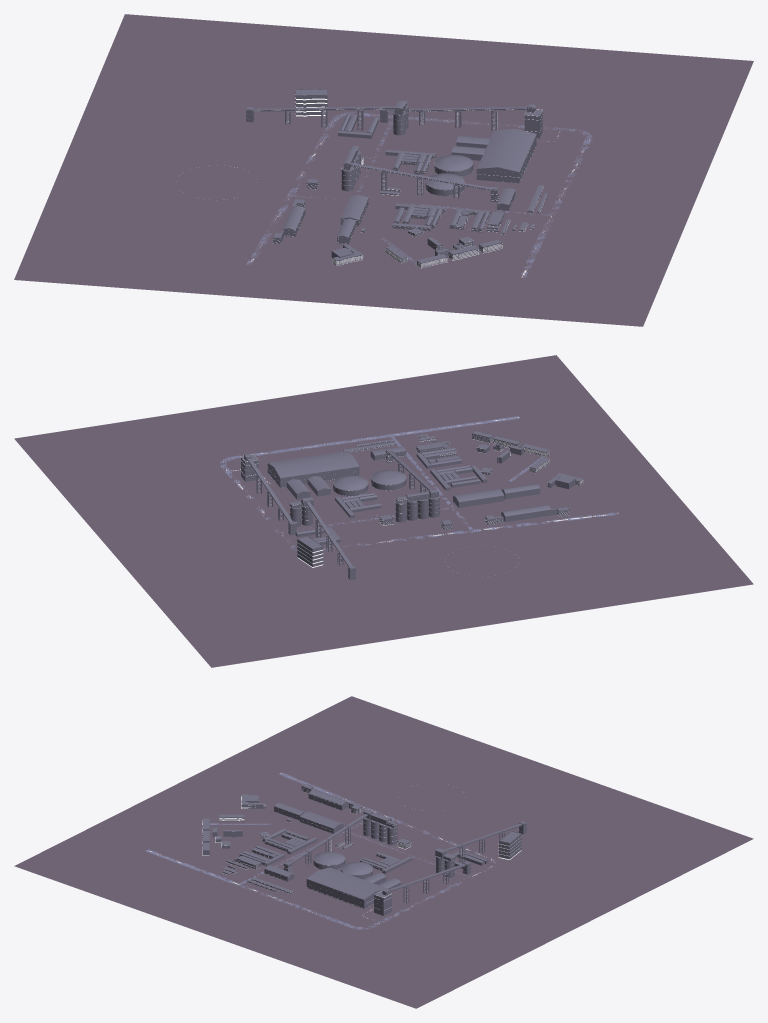
The model's file is 1-processed.glb.
The picture shows the model from 3 angles, top to bottom: view 1: azimuth 30°, elevation 25°; view 2: azimuth 150°, elevation 25°; view 3: azimuth 270°, elevation 25°; orthographic projection. The views are drawn at different scales.
Visible parts, largest first — view 1: 地面, 上部-材质 (×2), 下部-材质, 道路, 下部-材质.1; view 2: 地面, 上部-材质 (×2), 下部-材质, 道路; view 3: 地面, 上部-材质 (×2), 下部-材质, 道路.
Boxes of the visible parts, x1,y1,x2,y2 form: 地面: (14,14,753,326); 上部-材质 (×2): (246,89,542,202); 下部-材质: (281,150,547,267); 道路: (246,112,592,277); 下部-材质.1: (333,232,502,268); 地面: (14,355,753,667); 上部-材质 (×2): (241,449,439,579); 下部-材质: (335,430,582,522); 道路: (220,416,618,550); 地面: (14,696,753,1008); 上部-材质 (×2): (283,810,526,915); 下部-材质: (202,789,412,893); 道路: (145,772,495,929).
Bounding box in the file's own units: 25359 × 888 × 25359.
10 materials, 4 textured.
